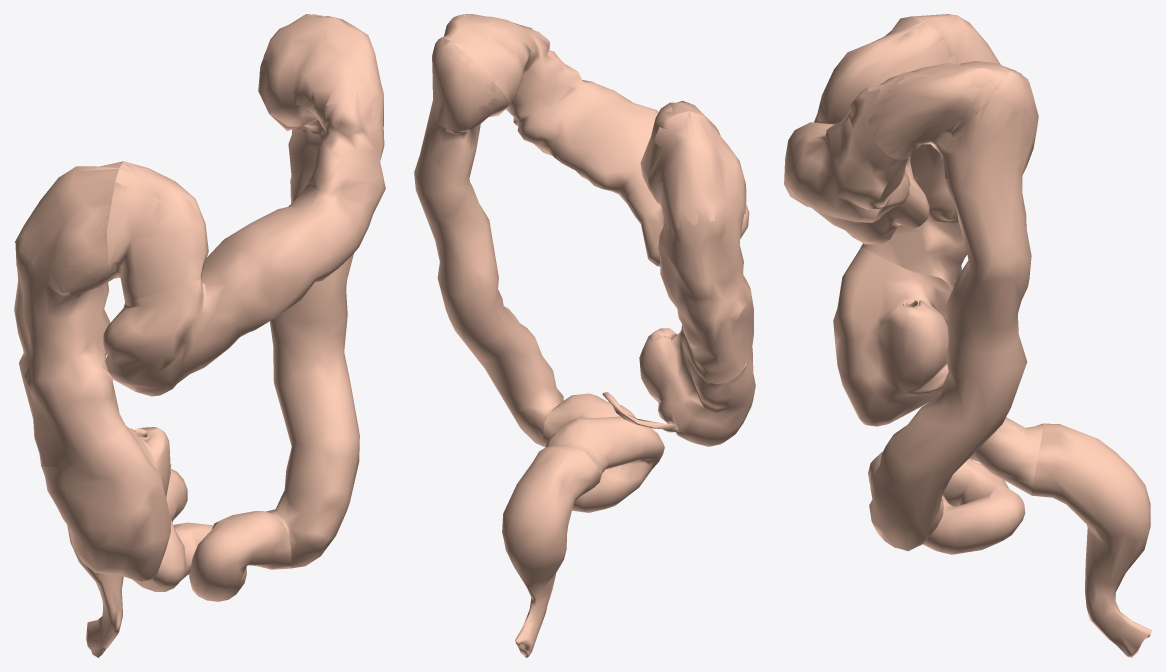
File: sbu_m_intestine_large-40.fbx
3 renders of one model, left to right at view 1: azimuth 30°, elevation 25°; view 2: azimuth 150°, elevation 25°; view 3: azimuth 270°, elevation 25°, orthographic. The views are drawn at different scales.
Visible parts, largest first — view 1: VH_M_transverse_colon, VH_M_ascending_colon, VH_M_descending_colon, VH_M_caecum, VH_M_hepatic_flexure_of_colon, VH_M_sigmoid_colon, VH_M_splenic_flexure_of_colon, VH_M_rectum; view 2: VH_M_descending_colon, VH_M_ascending_colon, VH_M_transverse_colon, VH_M_rectum, VH_M_sigmoid_colon, VH_M_caecum, VH_M_splenic_flexure_of_colon, VH_M_hepatic_flexure_of_colon, VH_M_vermiform_appendix; view 3: VH_M_descending_colon, VH_M_transverse_colon, VH_M_caecum, VH_M_rectum, VH_M_sigmoid_colon, VH_M_splenic_flexure_of_colon, VH_M_ascending_colon, VH_M_hepatic_flexure_of_colon.
Part boxes in pixels (left/top/right/bottom): VH_M_transverse_colon: left=103, top=14, right=385, bottom=396; VH_M_ascending_colon: left=14, top=161, right=124, bottom=468; VH_M_descending_colon: left=259, top=14, right=359, bottom=568; VH_M_caecum: left=41, top=424, right=170, bottom=582; VH_M_hepatic_flexure_of_colon: left=15, top=161, right=208, bottom=300; VH_M_sigmoid_colon: left=133, top=469, right=291, bottom=601; VH_M_splenic_flexure_of_colon: left=258, top=14, right=383, bottom=134; VH_M_rectum: left=67, top=525, right=123, bottom=657; VH_M_descending_colon: left=414, top=38, right=563, bottom=447; VH_M_ascending_colon: left=648, top=111, right=753, bottom=384; VH_M_transverse_colon: left=440, top=14, right=749, bottom=266; VH_M_rectum: left=502, top=445, right=600, bottom=657; VH_M_sigmoid_colon: left=543, top=393, right=664, bottom=512; VH_M_caecum: left=639, top=328, right=755, bottom=446; VH_M_splenic_flexure_of_colon: left=432, top=14, right=535, bottom=135; VH_M_hepatic_flexure_of_colon: left=640, top=101, right=745, bottom=229; VH_M_vermiform_appendix: left=602, top=392, right=677, bottom=432; VH_M_descending_colon: left=869, top=70, right=1038, bottom=551; VH_M_transverse_colon: left=784, top=16, right=1013, bottom=244; VH_M_caecum: left=833, top=247, right=951, bottom=426; VH_M_rectum: left=1031, top=423, right=1151, bottom=657; VH_M_sigmoid_colon: left=868, top=417, right=1043, bottom=554; VH_M_splenic_flexure_of_colon: left=868, top=61, right=1038, bottom=179; VH_M_ascending_colon: left=860, top=14, right=995, bottom=290; VH_M_hepatic_flexure_of_colon: left=817, top=15, right=1000, bottom=123.
Size of the model in its own units: 25.92 by 45.06 by 22.46.
